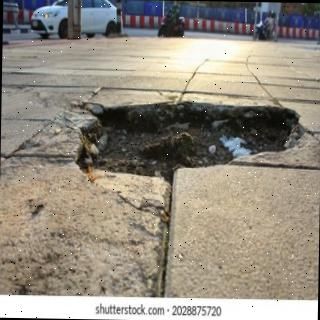pothole: (77, 101, 308, 183)
